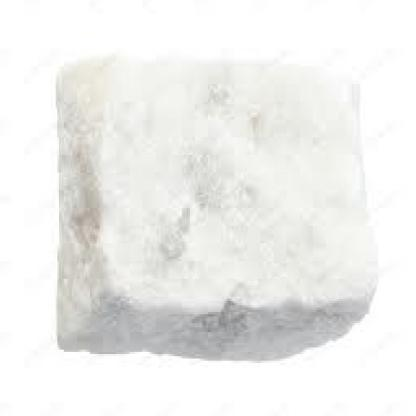Metamorphic_Marble: (41, 33, 378, 361)
